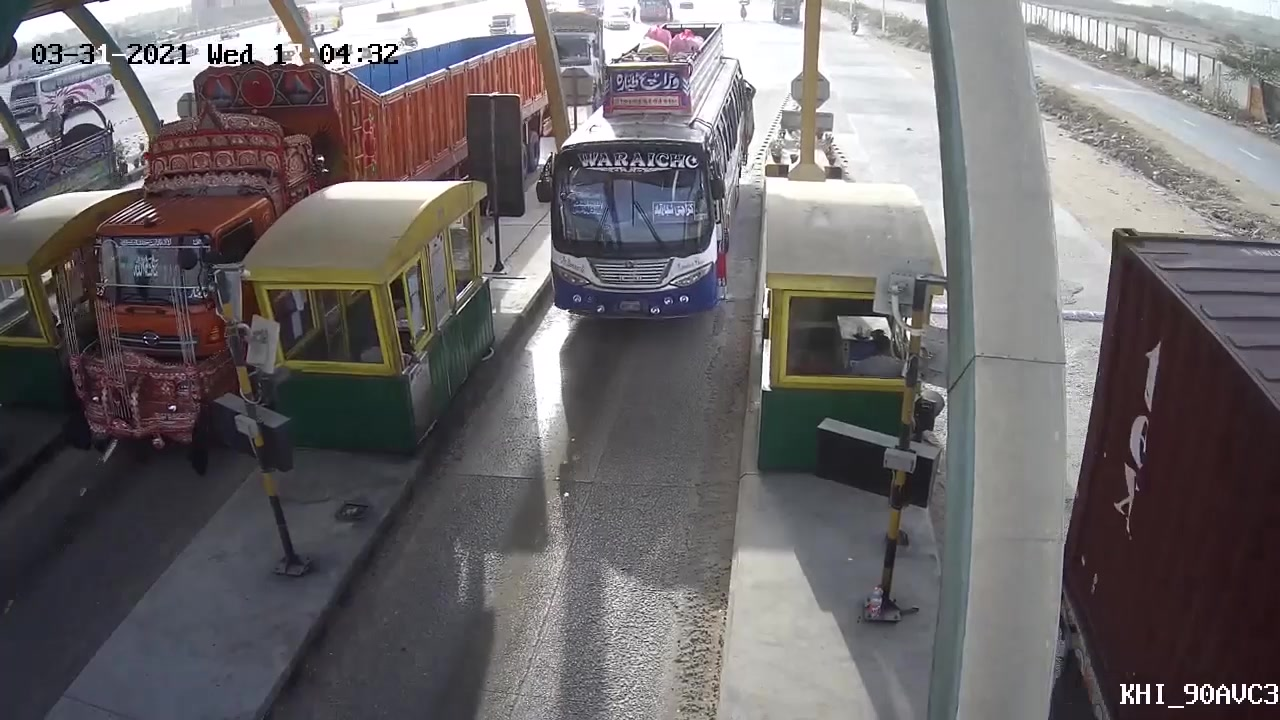F4: (531, 19, 764, 333)
